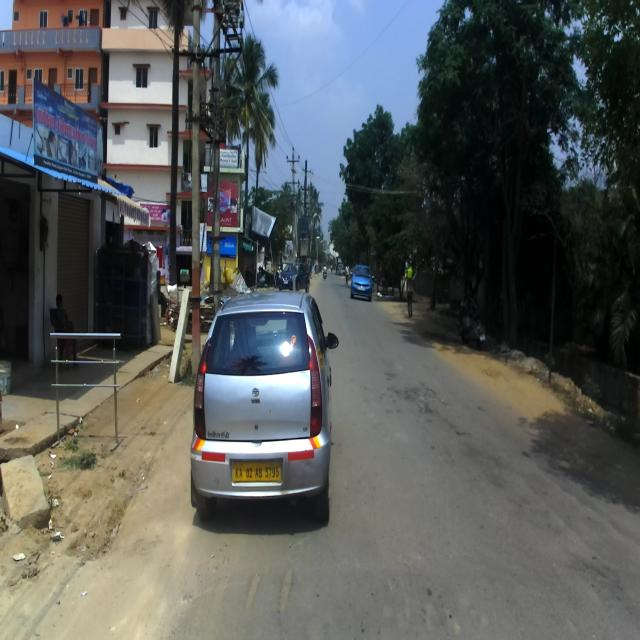car ahead at: (195, 285, 341, 527)
electric pole ahead at: (180, 0, 247, 295)
stones ahead at: (0, 451, 53, 541)
